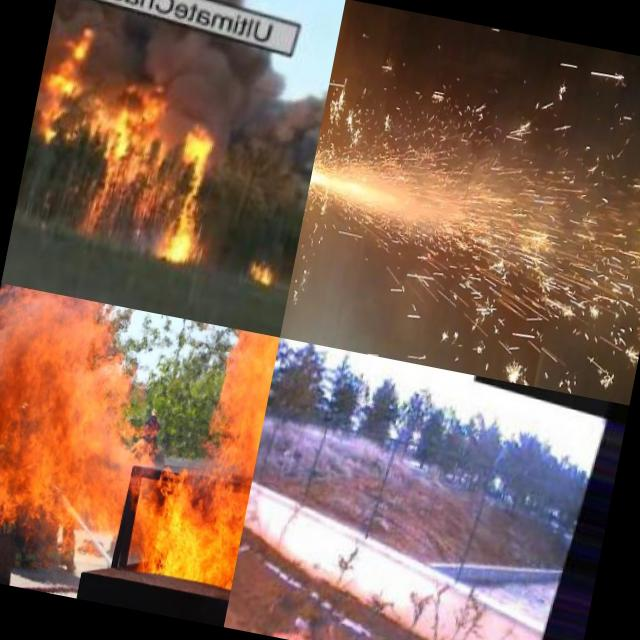fire: (0, 284, 280, 595), (19, 79, 229, 268), (241, 614, 331, 640)
